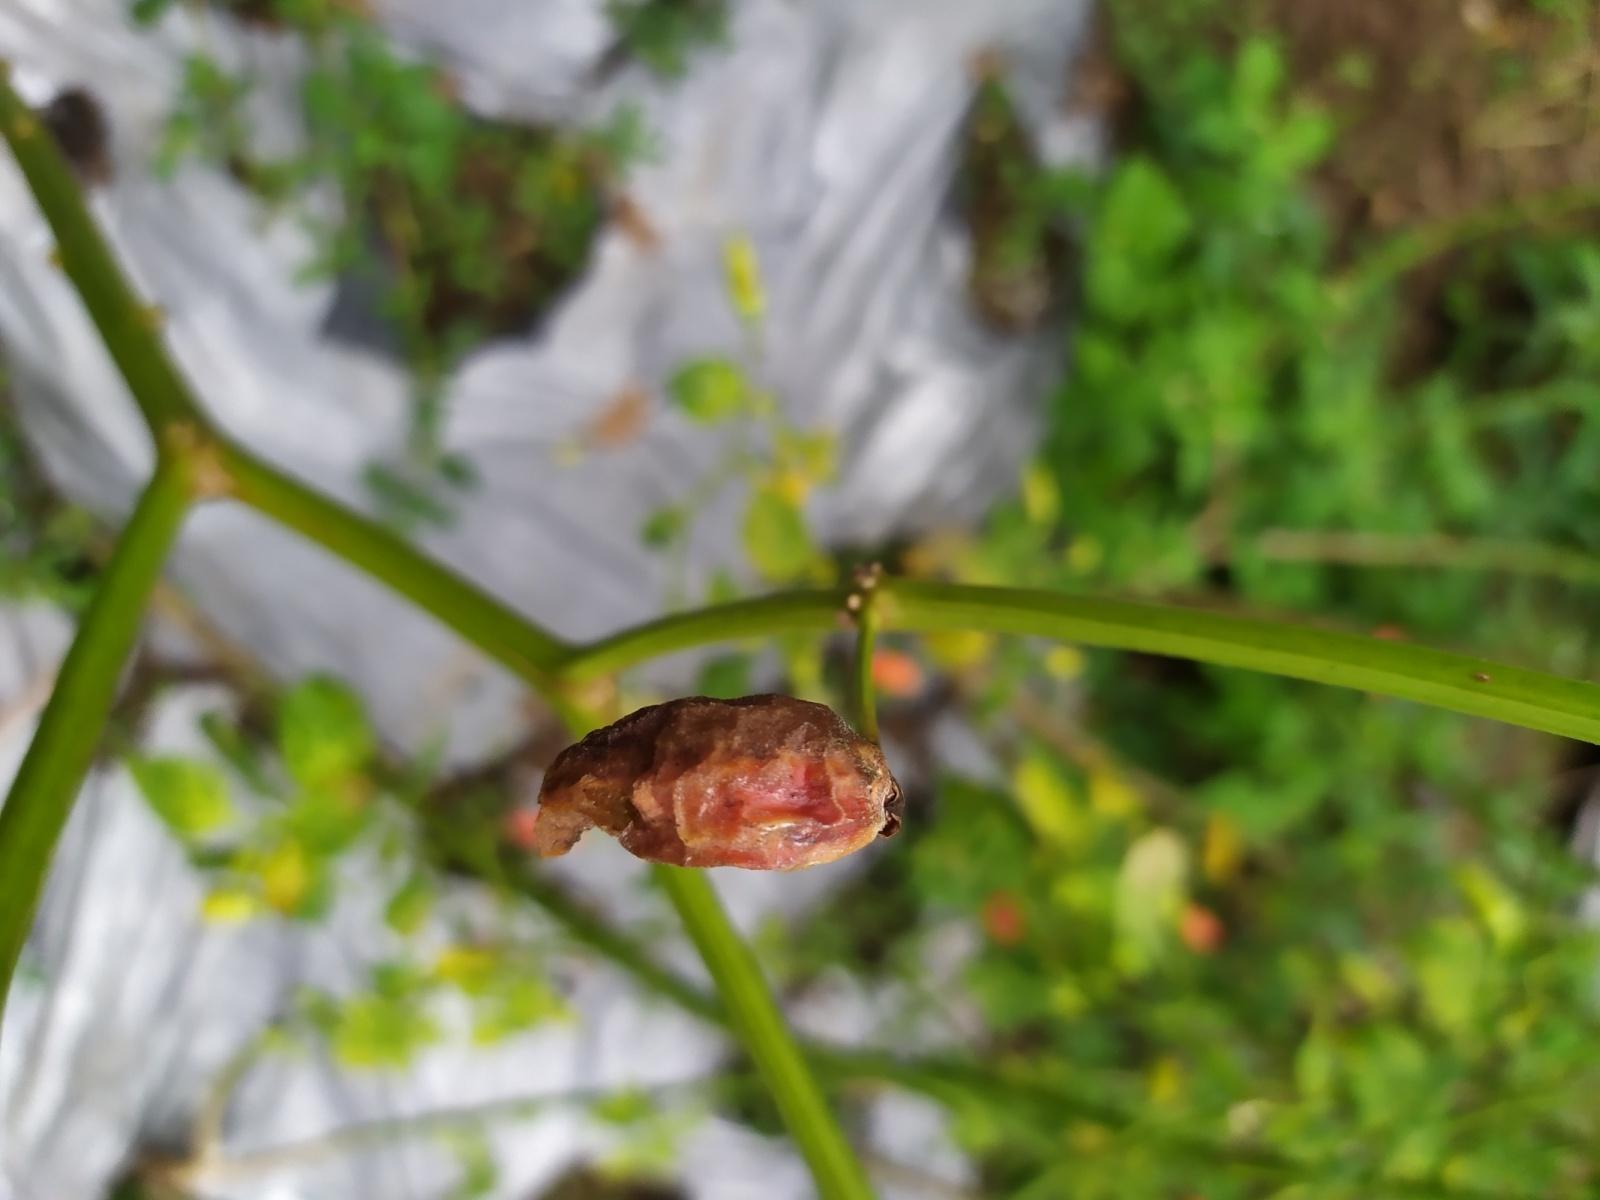antraknosa: (533, 696, 907, 871)
